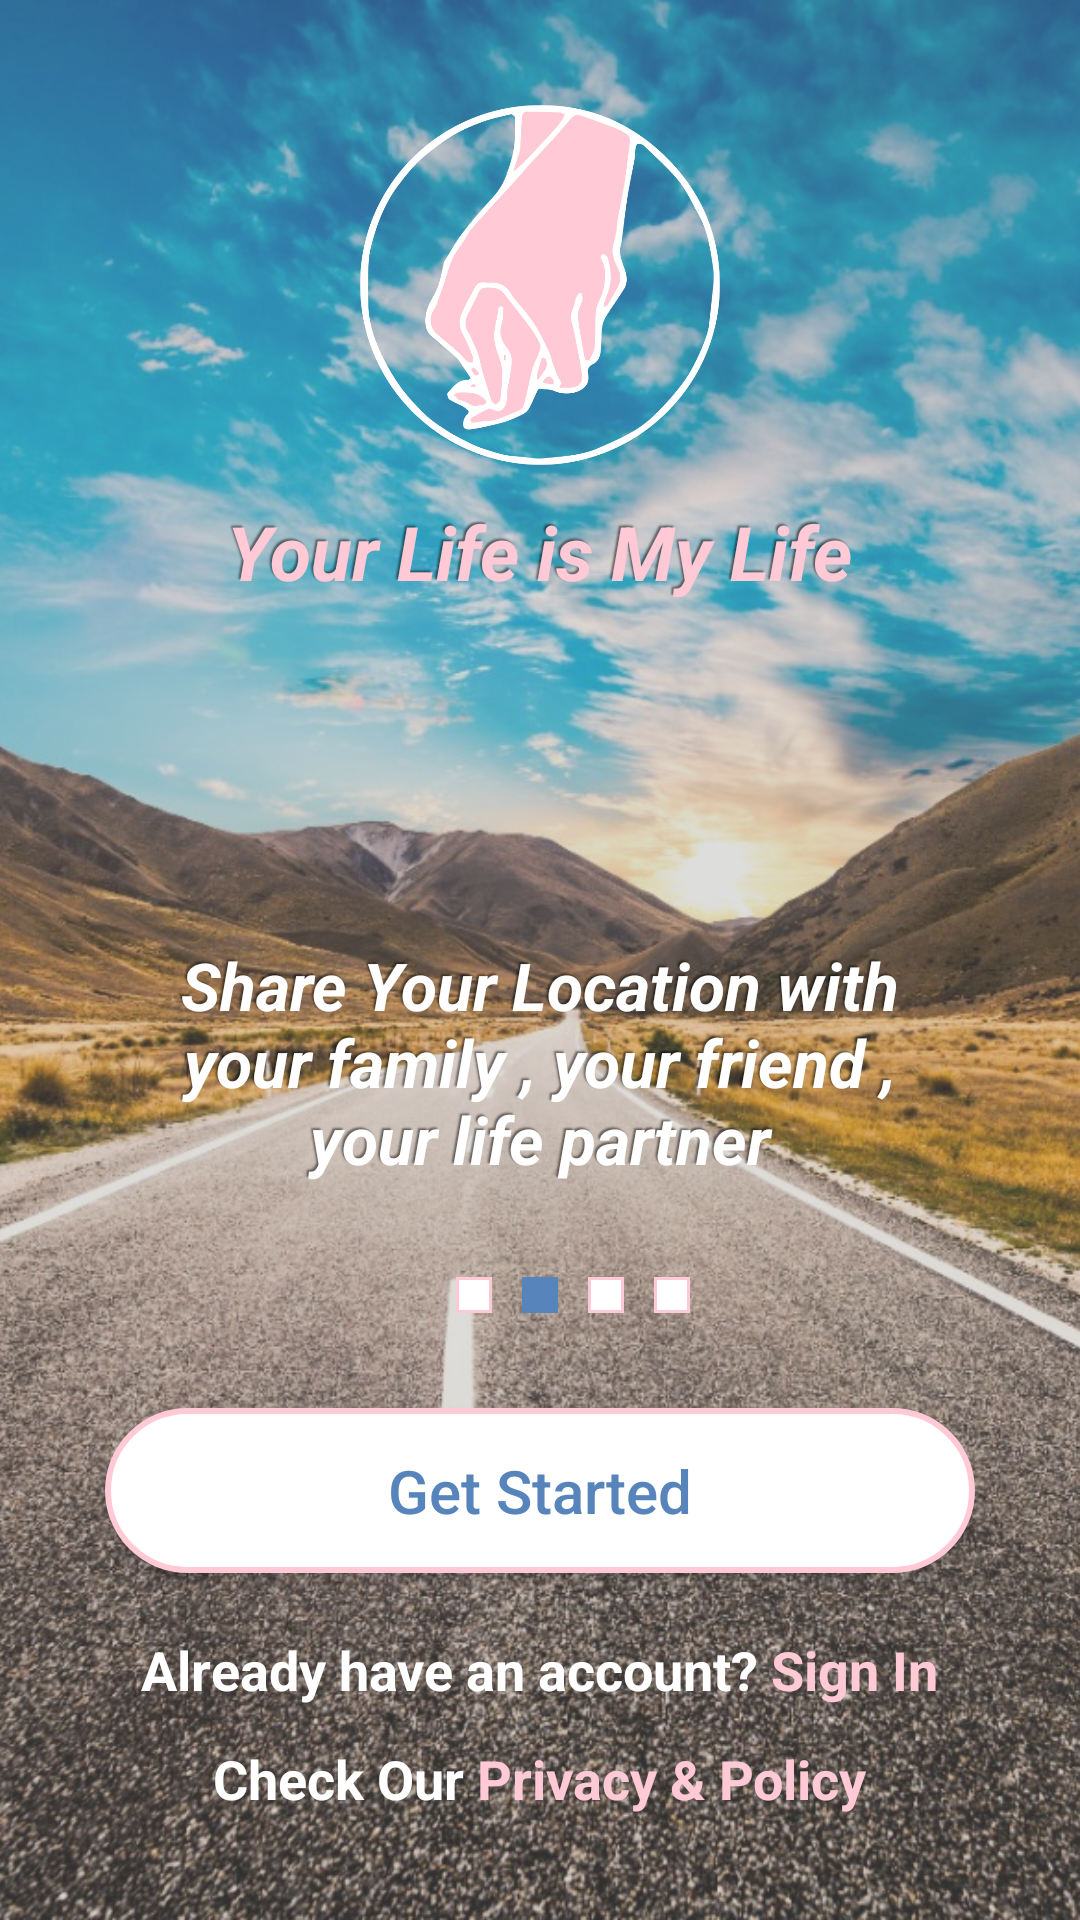

Screen size 1080px×1920px. Icon name, then its center in pixels as [x,y]:
hands tran: [540,285]
